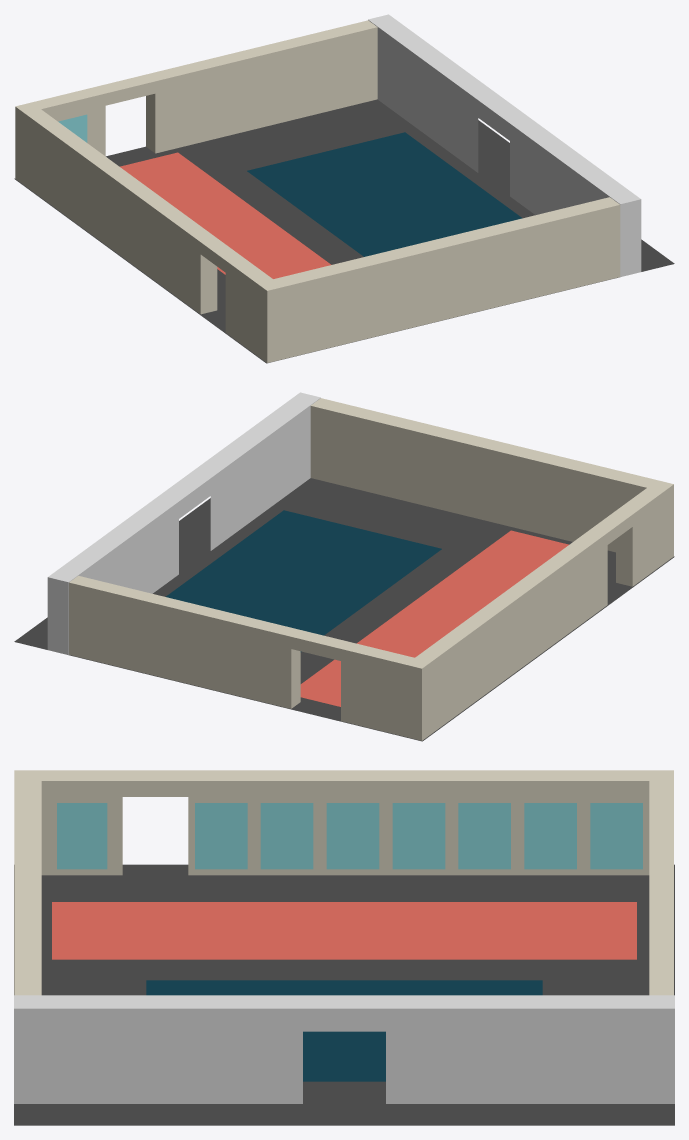
Rendered from cafe_room.glb.
3 views of the same model, one above another, from view 1: azimuth 30°, elevation 25°; view 2: azimuth 150°, elevation 25°; view 3: azimuth 270°, elevation 25° (orthographic). The views are drawn at different scales.
Parts seen in each view (by area): view 1: Cube.002, Cube.001, Plane.002, Plane, Plane.001; view 2: Cube.002, Cube.001, Plane, Plane.002, Plane.001; view 3: Cube.002, Cube.001, Plane, Plane.001, Plane.002.
Part boxes in pixels (x1,y1,x2,y2): Cube.002: (15,20,620,362); Cube.001: (368,14,641,276); Plane.002: (247,132,522,256); Plane: (14,99,674,363); Plane.001: (120,152,331,278); Cube.002: (69,398,673,740); Cube.001: (47,392,320,654); Plane: (14,478,674,741); Plane.002: (166,510,441,652); Plane.001: (300,530,568,706); Cube.002: (14,770,673,995); Cube.001: (14,995,674,1103); Plane: (14,864,674,1125); Plane.001: (52,902,636,959); Plane.002: (146,980,542,1081).
Size of the model in its own units: 9.29 by 1.58 by 9.94.
